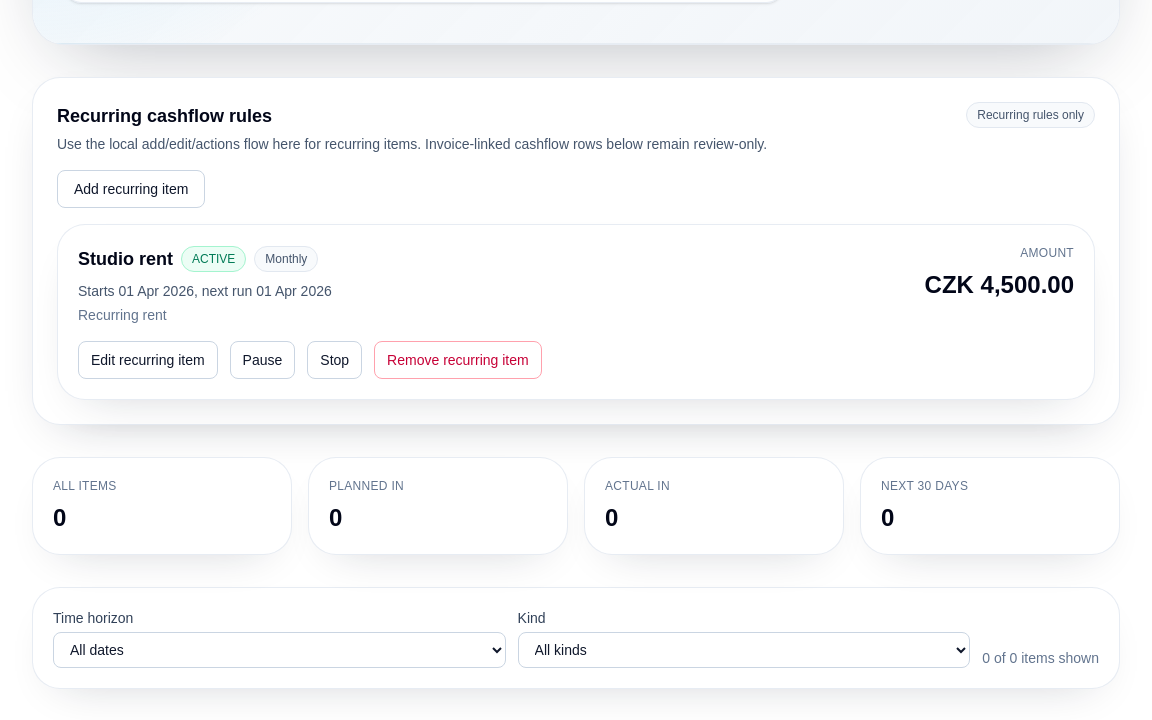
Test case: cashflow workspace v1 › edits an existing recurring rule locally
(page scrolled)
expect the heading "Studio rent" is shown: met, box [78,245,173,273]
Click the button "Edit recurring item": coordinates (148, 360) [78,341,218,379]
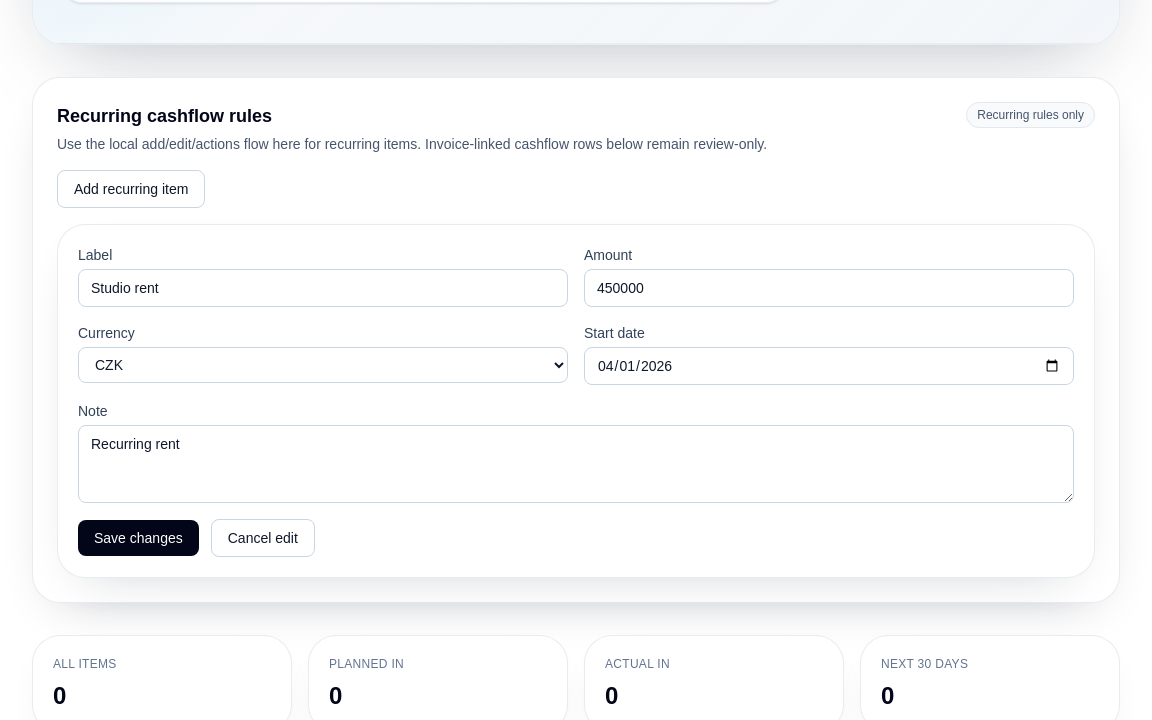
Replace the text in the field labelled "Label" with "Studio rent updated": coordinates (323, 288) [78,269,568,307]
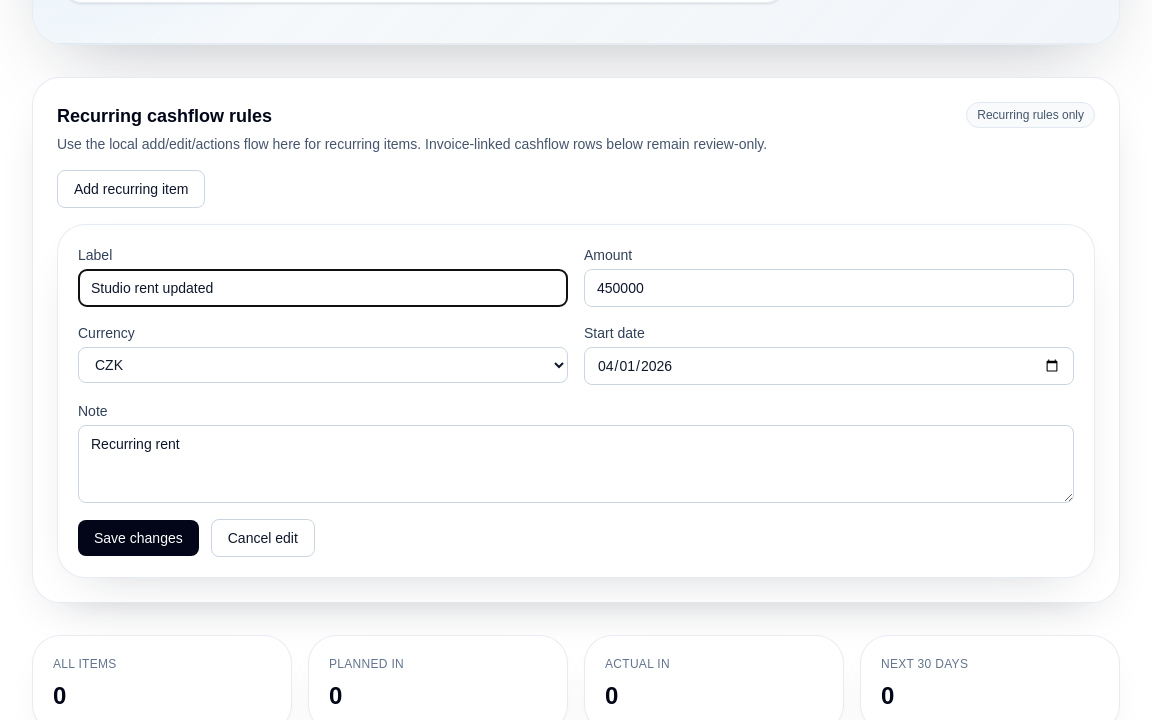
Replace the text in the field labelled "Amount" with "470000": coordinates (829, 288) [584,269,1074,307]
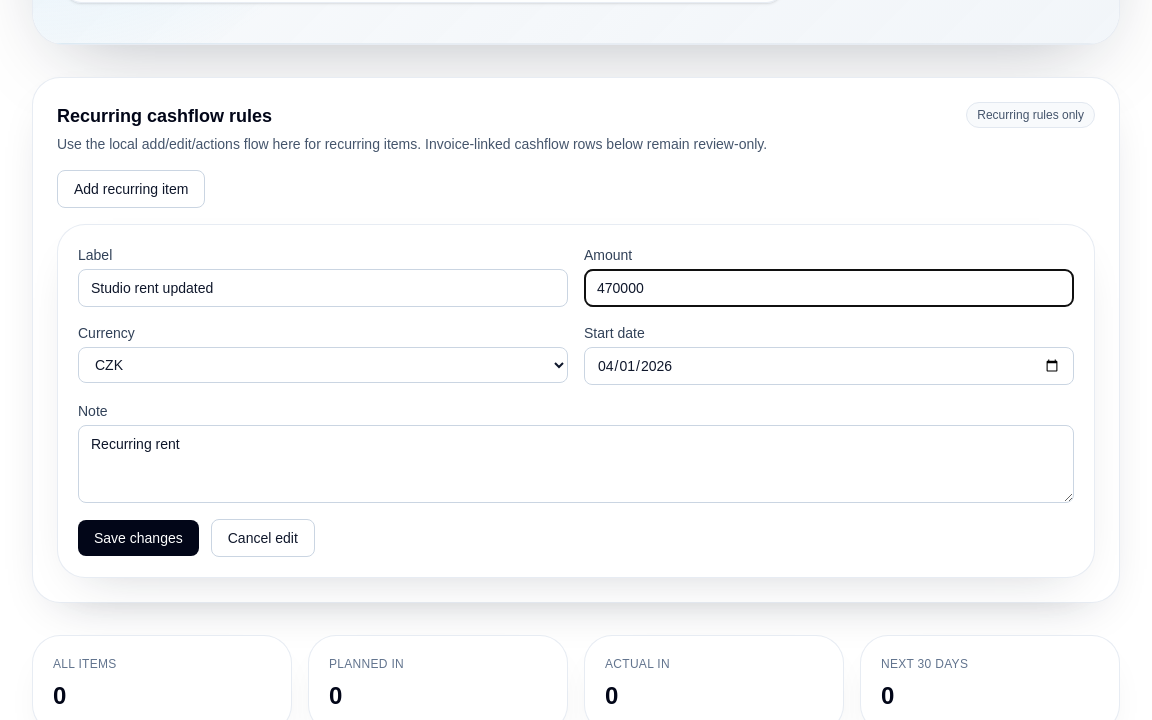
In the date field labelled "Start date": coordinates (829, 366) [584,347,1074,385], type "2026-04-05"
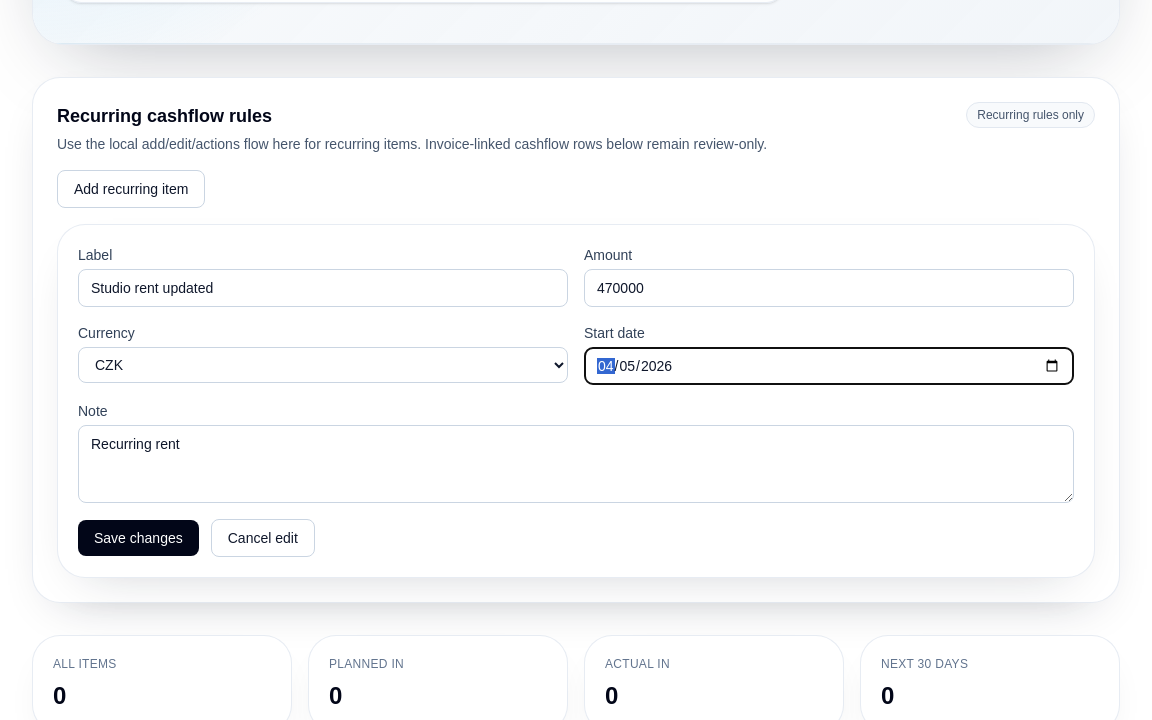
Replace the text in the text box labelled "Note" with "Updated note": coordinates (576, 464) [78,425,1074,503]
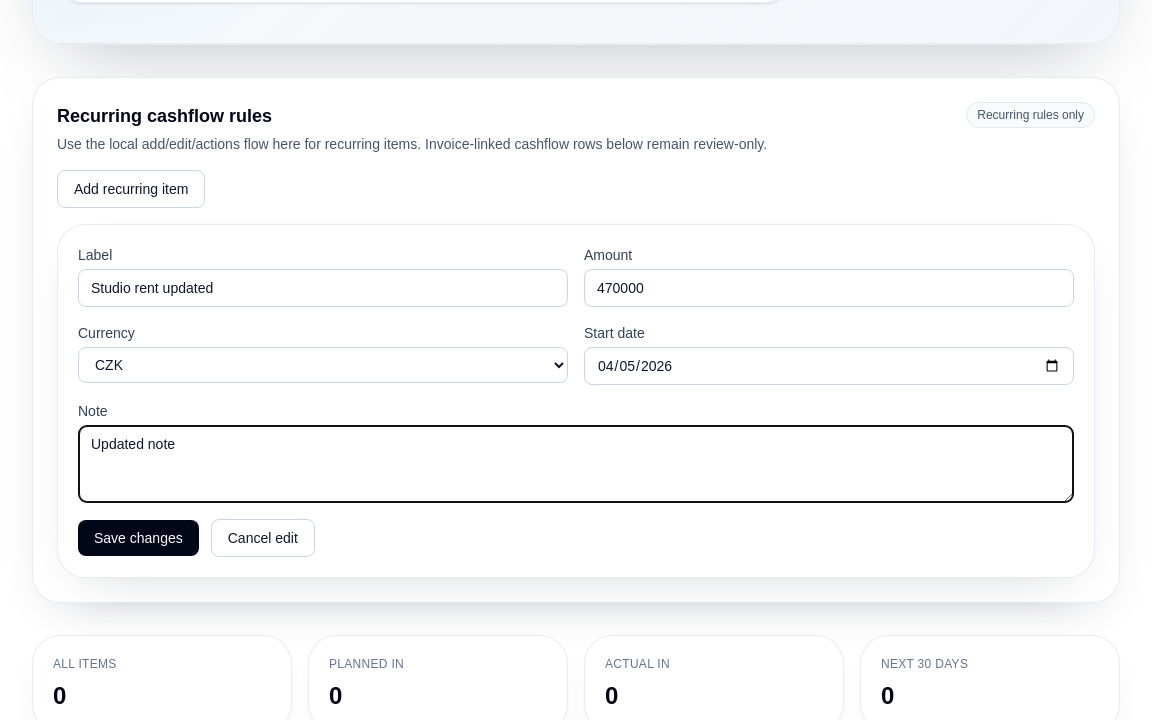
Click the button "Save changes": coordinates (138, 538) [78,520,199,556]
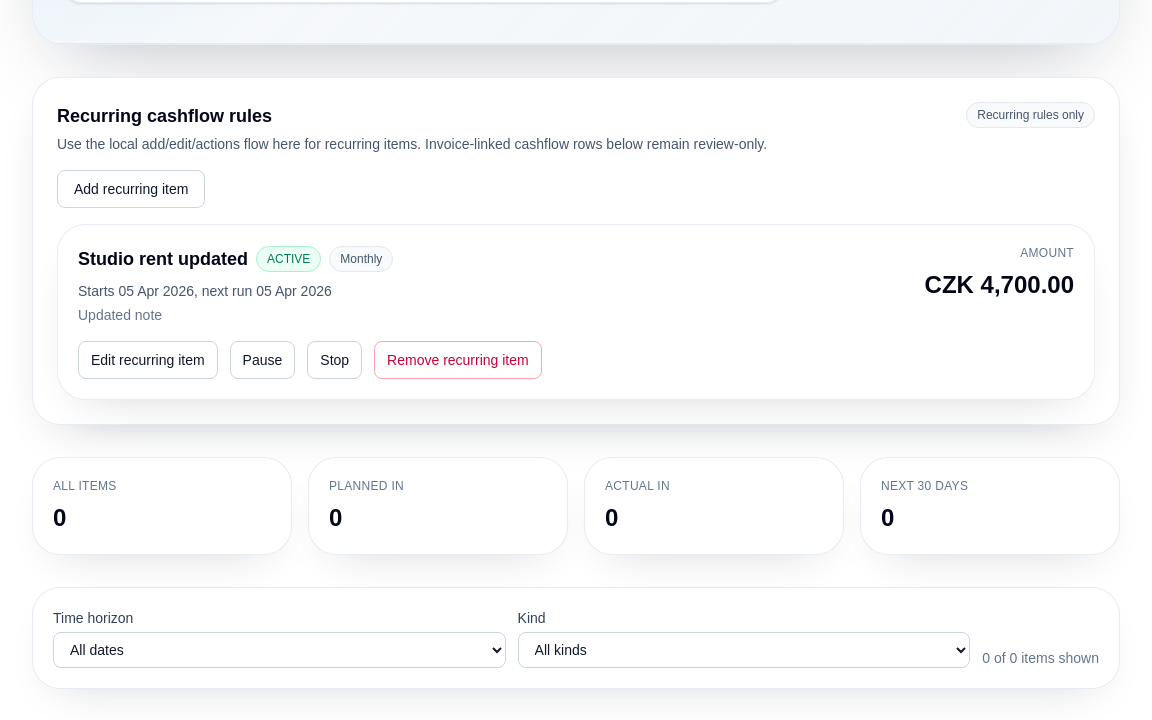
expect the heading "Studio rent updated" is shown: met, box [78,245,248,273]
